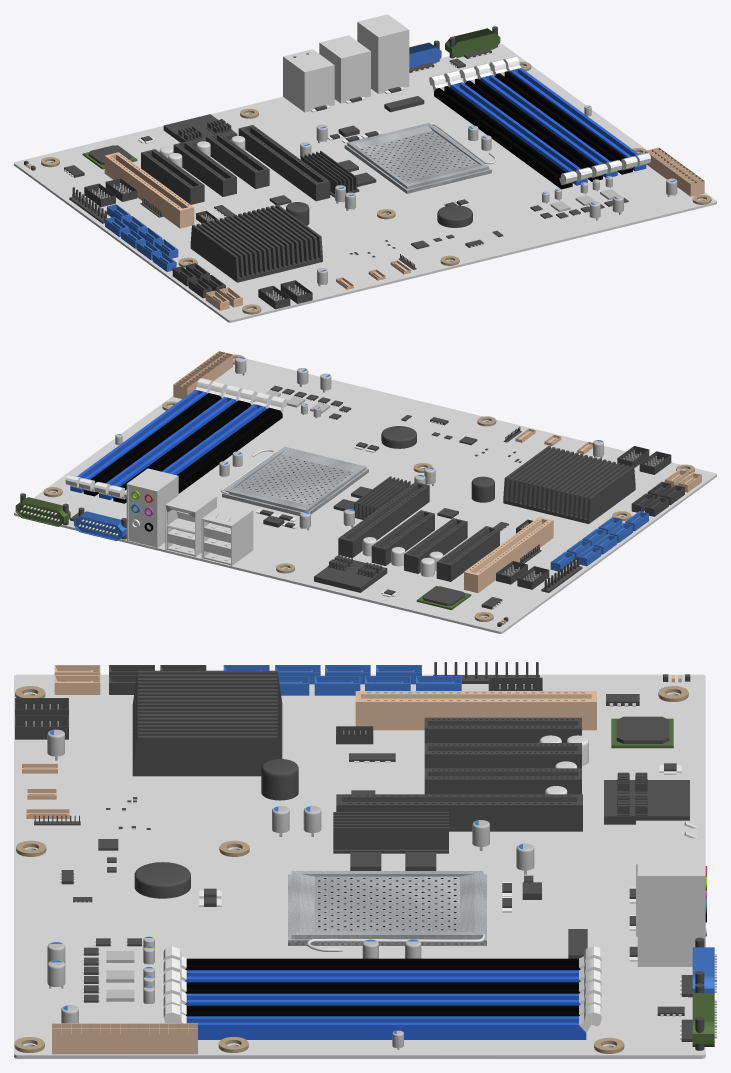
File: motherboard.glb
3 views of the same model, one above another, from view 1: azimuth 30°, elevation 25°; view 2: azimuth 150°, elevation 25°; view 3: azimuth 270°, elevation 25° (orthographic). The views are drawn at different scales.
Visible parts, largest first — view 1: Box001, Box015, Box150, Box093, Box113, Box082, Box069, Box065, Box073, Box115, Box114, Box116 (+13 smaller); view 2: Box001, Box015, Box150, Box093, Box082, Box069, Box065, Box073, Box115, Box113, Box117, Box118 (+17 smaller); view 3: Box001, Box015, Box150, Box118, Box093, Box065, Box069, Box116, Box117, Box113, Box114, Box115 (+24 smaller).
Boxes of the visible parts, <box> form: Box001: <box>14,43,716,322</box>; Box015: <box>190,204,322,282</box>; Box150: <box>344,123,491,193</box>; Box093: <box>357,14,409,93</box>; Box113: <box>429,74,577,189</box>; Box082: <box>283,49,334,112</box>; Box069: <box>238,125,330,201</box>; Box065: <box>104,152,194,228</box>; Box073: <box>319,35,370,103</box>; Box115: <box>489,59,637,174</box>; Box114: <box>459,67,607,181</box>; Box116: <box>444,70,592,185</box>; Box001: <box>14,358,716,633</box>; Box015: <box>503,446,635,523</box>; Box150: <box>222,446,368,515</box>; Box093: <box>126,468,178,550</box>; Box082: <box>201,503,253,566</box>; Box069: <box>338,482,429,558</box>; Box065: <box>464,517,553,592</box>; Box073: <box>165,489,216,557</box>; Box115: <box>78,381,226,496</box>; Box113: <box>177,396,287,493</box>; Box117: <box>94,385,242,499</box>; Box118: <box>65,378,213,493</box>; Box001: <box>14,674,705,1058</box>; Box015: <box>132,670,282,776</box>; Box150: <box>288,871,486,945</box>; Box118: <box>163,1003,601,1039</box>; Box093: <box>637,852,705,966</box>; Box065: <box>355,691,596,730</box>; Box069: <box>336,794,582,831</box>; Box116: <box>163,958,601,982</box>; Box117: <box>163,981,601,1005</box>; Box113: <box>163,946,601,970</box>; Box114: <box>163,970,601,993</box>; Box115: <box>163,993,601,1016</box>.
Size of the model in its own units: 4.21 by 0.4895 by 3.28.
Materials: 32 (1 with a texture image).
